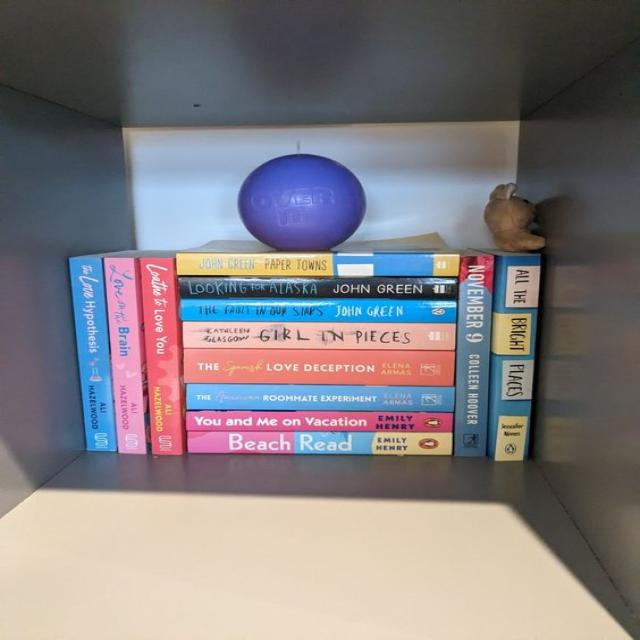book: (183, 349, 455, 383), (495, 256, 539, 462), (70, 258, 116, 452), (140, 258, 182, 454), (106, 257, 146, 453), (455, 255, 493, 457), (187, 384, 455, 411), (183, 322, 455, 348), (177, 253, 458, 276), (178, 277, 456, 298), (187, 432, 452, 454), (182, 300, 456, 321), (187, 411, 453, 432)
